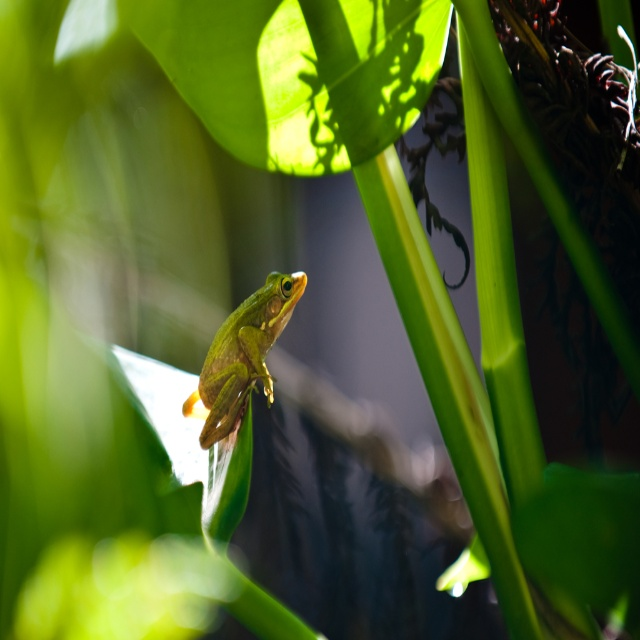Frog: (180, 269, 309, 453)
